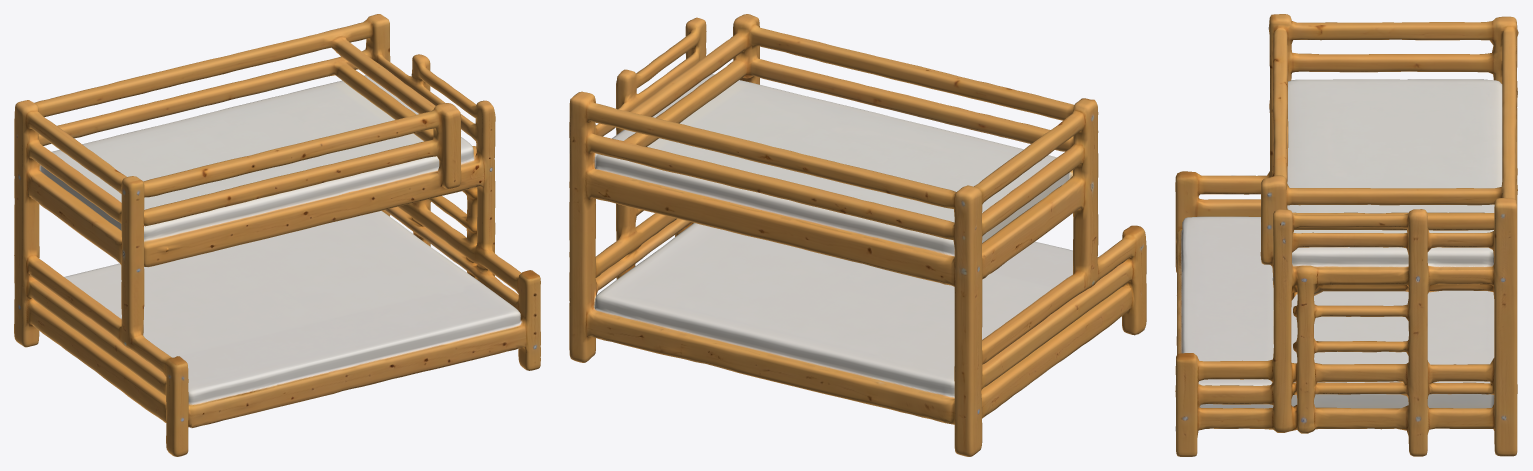
Rendered from bunk-bed.glb.
The picture shows the model from 3 angles, left to right: view 1: azimuth 30°, elevation 25°; view 2: azimuth 150°, elevation 25°; view 3: azimuth 270°, elevation 25°; orthographic projection. The views are drawn at different scales.
Visible parts, largest first — view 1: model; view 2: model; view 3: model.
Part boxes in pixels (box(x1,y1,x2,y2)): model: box(14, 14, 540, 456); model: box(569, 14, 1146, 456); model: box(1175, 14, 1518, 456).
Bounding box in the file's own units: 1.89 × 1.18 × 1.44.
Materials: 1 (1 with a texture image).
